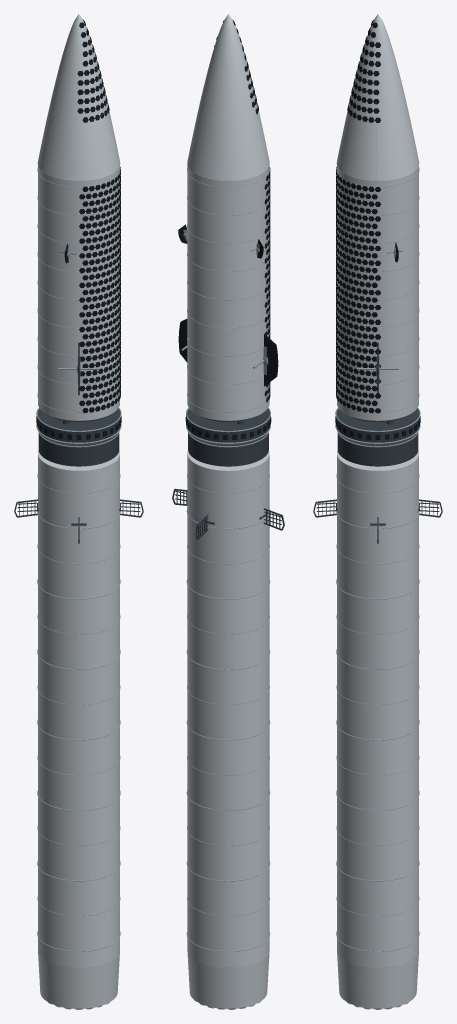
The model's file is starship-blender.glb.
3 views of the same model, side by side, from view 1: azimuth 90°, elevation 25°; view 2: azimuth 150°, elevation 25°; view 3: azimuth 270°, elevation 25° (orthographic).
Parts seen in each view (by area): view 1: Booster_Barrel, Ship_Barrel, Ship_Ogive, Tiles_Windward, Booster_EngineSkirt, Booster_ShellRings, Booster_TopInterface, HotStageRing_Barrel, Ship_ShellRings, HotStageRing_Rims, HotStageRing_Vents; view 2: Booster_Barrel, Ship_Barrel, Ship_Ogive, Booster_EngineSkirt, Booster_ShellRings, Booster_TopInterface, HotStageRing_Barrel, Tiles_Windward, Ship_ShellRings, AftFlap_R_Panel, HotStageRing_Rims, HotStageRing_Vents (+1 smaller); view 3: Booster_Barrel, Ship_Barrel, Tiles_Windward, Ship_Ogive, Booster_EngineSkirt, Booster_ShellRings, Booster_TopInterface, HotStageRing_Barrel, Ship_ShellRings, HotStageRing_Rims, HotStageRing_Vents.
Part boxes in pixels (left/top/right/bottom): Booster_Barrel: left=38, top=450, right=119, bottom=967; Ship_Barrel: left=38, top=166, right=119, bottom=420; Ship_Ogive: left=37, top=14, right=120, bottom=180; Tiles_Windward: left=77, top=20, right=120, bottom=413; Booster_EngineSkirt: left=38, top=952, right=119, bottom=1008; Booster_ShellRings: left=37, top=431, right=120, bottom=951; Booster_TopInterface: left=38, top=433, right=119, bottom=466; HotStageRing_Barrel: left=37, top=408, right=120, bottom=442; Ship_ShellRings: left=37, top=167, right=120, bottom=412; HotStageRing_Rims: left=36, top=408, right=121, bottom=443; HotStageRing_Vents: left=36, top=416, right=121, bottom=439; Booster_Barrel: left=187, top=450, right=269, bottom=967; Ship_Barrel: left=187, top=165, right=269, bottom=420; Ship_Ogive: left=187, top=14, right=269, bottom=180; Booster_EngineSkirt: left=187, top=953, right=269, bottom=1008; Booster_ShellRings: left=186, top=431, right=270, bottom=951; Booster_TopInterface: left=188, top=433, right=268, bottom=466; HotStageRing_Barrel: left=186, top=409, right=270, bottom=442; Tiles_Windward: left=212, top=20, right=270, bottom=402; Ship_ShellRings: left=187, top=168, right=269, bottom=412; AftFlap_R_Panel: left=264, top=333, right=278, bottom=386; HotStageRing_Rims: left=186, top=408, right=270, bottom=443; HotStageRing_Vents: left=185, top=416, right=271, bottom=439; Booster_Barrel: left=337, top=450, right=418, bottom=967; Ship_Barrel: left=337, top=166, right=418, bottom=420; Tiles_Windward: left=336, top=20, right=380, bottom=413; Ship_Ogive: left=336, top=14, right=419, bottom=180; Booster_EngineSkirt: left=337, top=952, right=418, bottom=1008; Booster_ShellRings: left=336, top=431, right=419, bottom=951; Booster_TopInterface: left=337, top=433, right=418, bottom=466; HotStageRing_Barrel: left=336, top=408, right=419, bottom=442; Ship_ShellRings: left=336, top=167, right=419, bottom=412; HotStageRing_Rims: left=335, top=408, right=420, bottom=443; HotStageRing_Vents: left=335, top=416, right=420, bottom=439.
Size of the model in its own units: 14.17 by 118 by 14.17.
